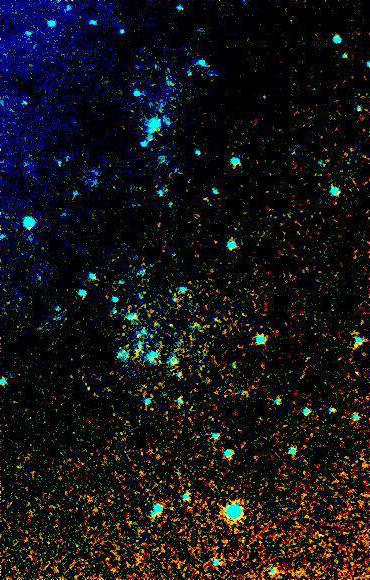star: (248, 323, 278, 353)
